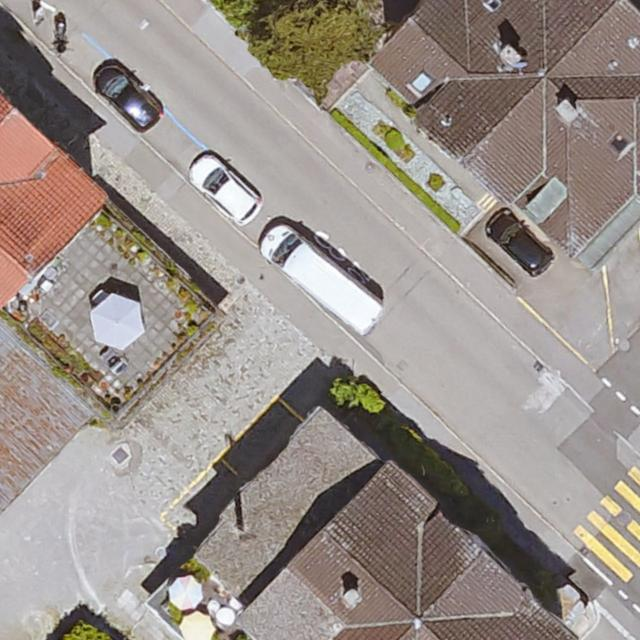tree: (256, 0, 386, 82)
